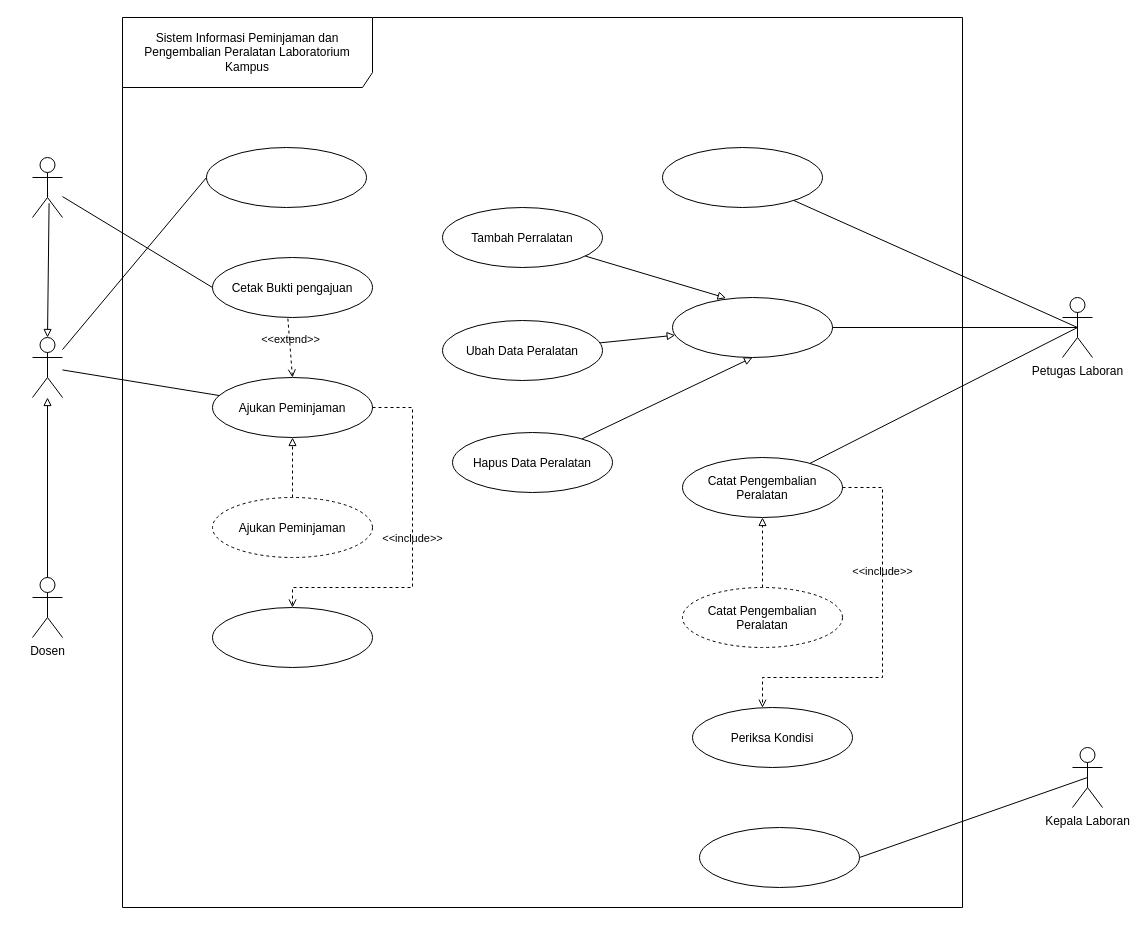
Some shapes in this 1147 by 925 pixel diagram are drawn without their labels. The box of each missing label's shape, as (x1, y1, x2, y2) in pixels:
Kelola Data Peralatan: (672, 296, 832, 358)
Lihat Ketersediaan Peralatan: (206, 146, 366, 208)
Lihat Laporan Peminjaman: (698, 826, 860, 888)
Mahasiswa: (32, 156, 62, 218)
Peminjam: (32, 336, 62, 398)
Periksa ketersediaan: (212, 606, 372, 668)
Proses Keputusan Peminjaman: (662, 146, 822, 208)
